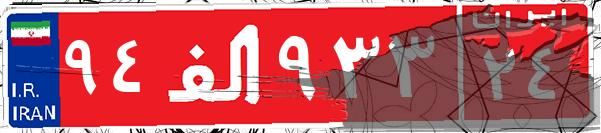2: (475, 38, 525, 113)
3: (385, 28, 445, 110), (330, 28, 385, 110)
4: (110, 28, 158, 105), (525, 38, 570, 115)
9: (273, 28, 330, 110), (57, 26, 110, 107)
الف: (158, 15, 273, 115)
